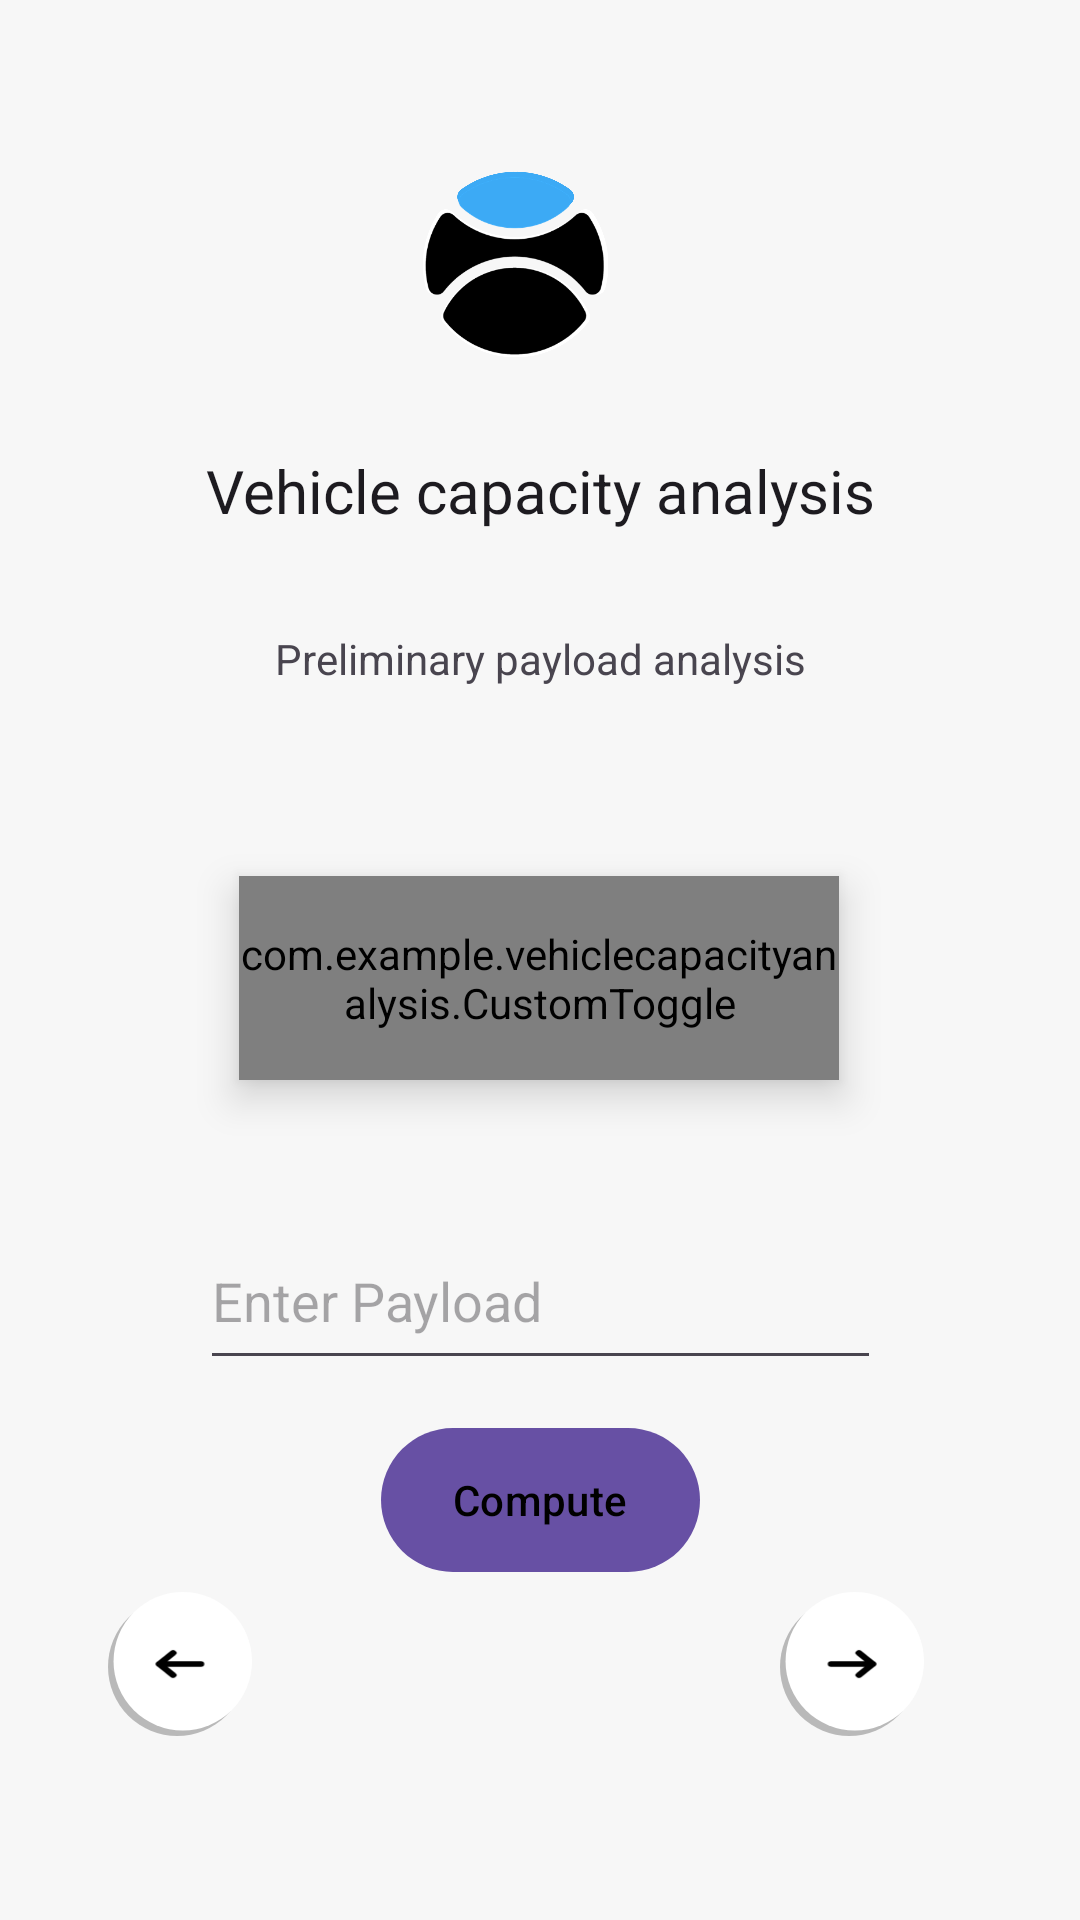

Screen size 1080px x 1920px. Icon name, then its center in pixels as [x,y]:
arrowleft: [180,1664]
arrowright: [852,1664]
